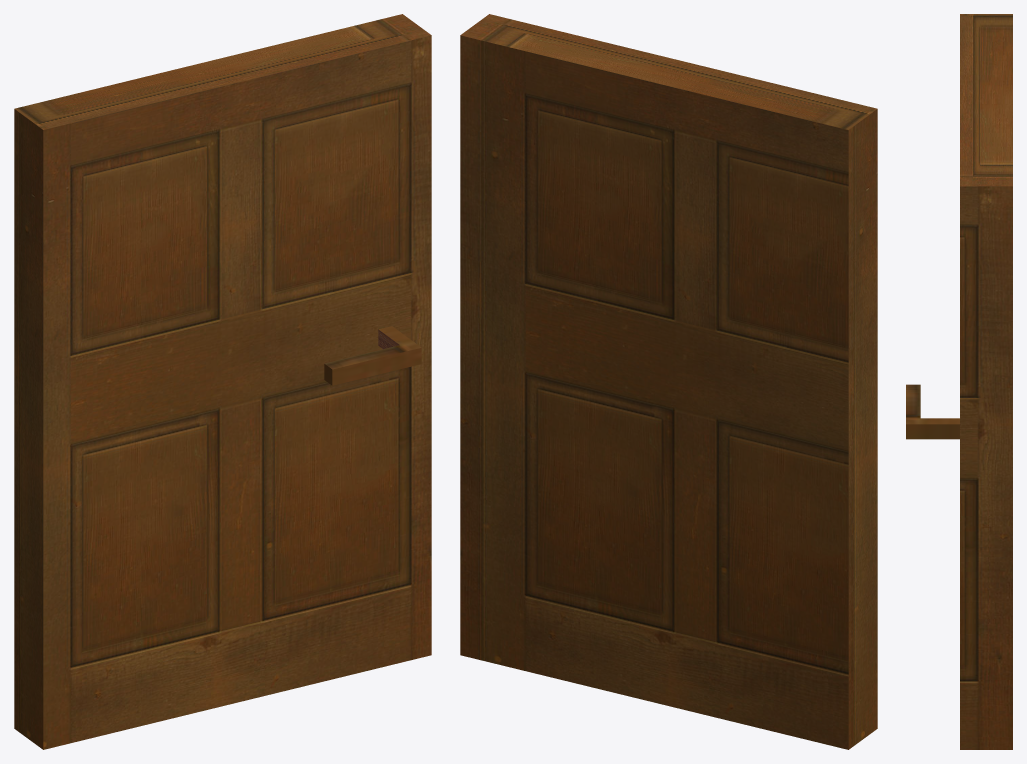
Rendered from Door.fbx.
3 renders of one model, left to right at view 1: azimuth 30°, elevation 25°; view 2: azimuth 150°, elevation 25°; view 3: azimuth 270°, elevation 25°, orthographic. The views are drawn at different scales.
Visible parts, largest first — view 1: Cube; view 2: Cube; view 3: Cube.
Boxes of the visible parts, x1,y1,x2,y2 form: Cube: (14,14,431,749); Cube: (460,14,877,749); Cube: (906,14,1012,749).
Bounding box in the file's own units: 342 × 521 × 89.52.
Materials: 2 (2 with a texture image).
